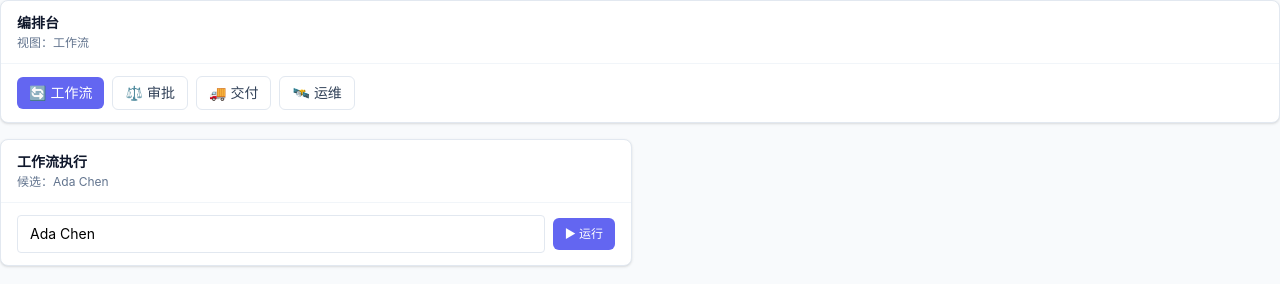
Test case: V125 ConsoleShell component › clicking delivery tab shows delivery panel
Click the tab with test id "shell-tab-delivery".
click(234, 93)  # box [196, 76, 271, 110]
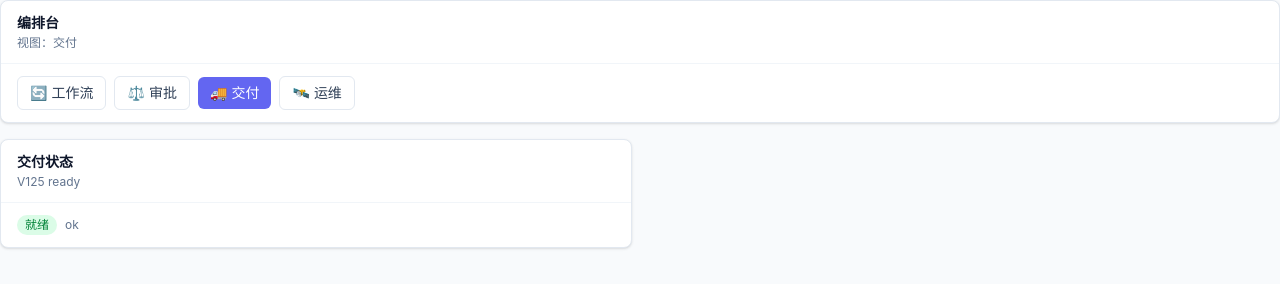
Check: the element with test id "delivery-panel" is shown, box [0, 139, 632, 248]
